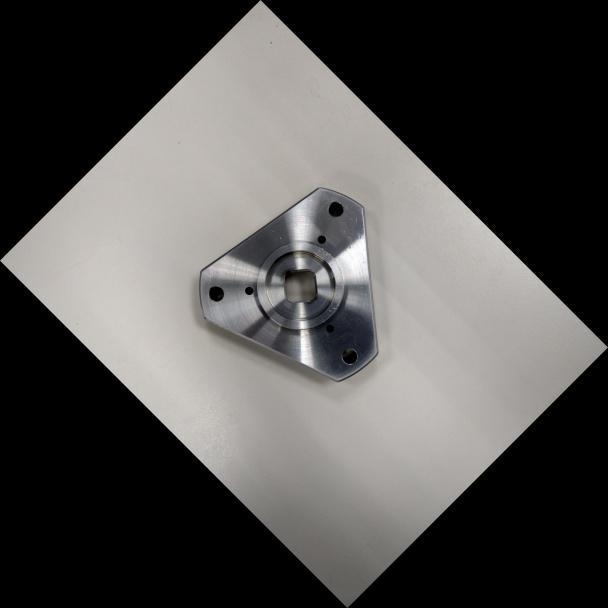hole: (202, 279, 230, 307), (335, 342, 363, 370), (322, 195, 349, 222), (321, 319, 339, 337), (313, 231, 330, 247), (241, 282, 257, 298)
